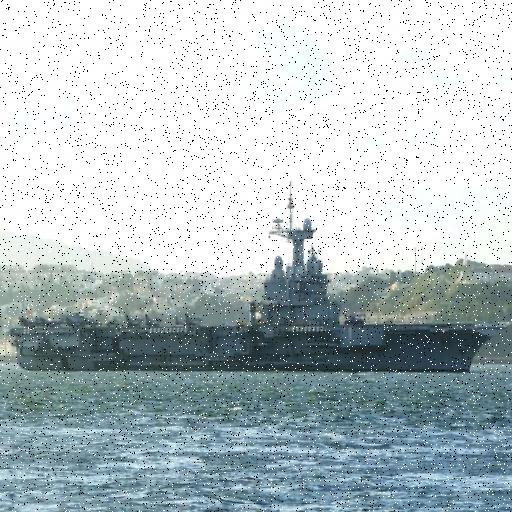Portanaves: (12, 177, 512, 375)
